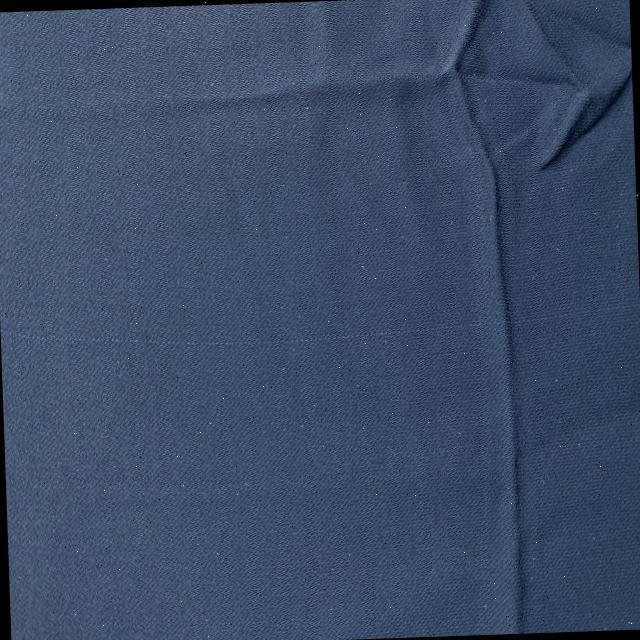broken_yarn: (450, 58, 526, 630), (265, 0, 487, 97), (526, 0, 631, 171)
